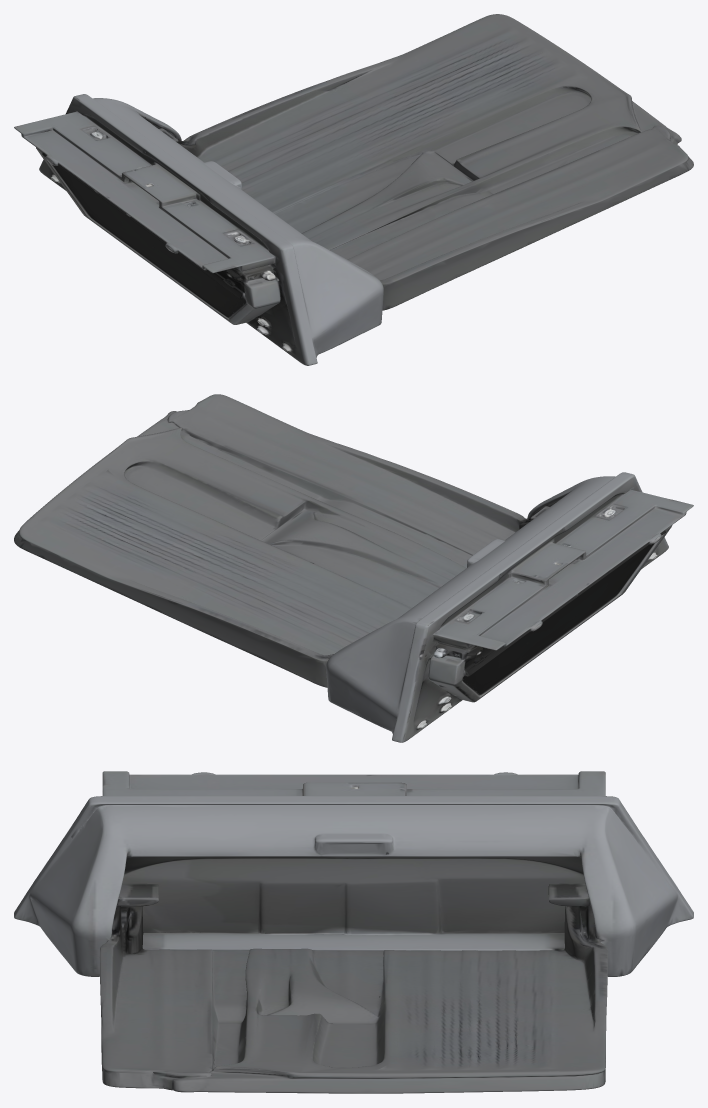
The picture shows the model from 3 angles, top to bottom: view 1: azimuth 30°, elevation 25°; view 2: azimuth 150°, elevation 25°; view 3: azimuth 270°, elevation 25°; orthographic projection. The views are drawn at different scales.
Parts seen in each view (by area): view 1: node_0.005; view 2: node_0.005; view 3: node_0.005.
Boxes of the visible parts, x1,y1,x2,y2 form: node_0.005: (14, 14, 693, 365); node_0.005: (14, 394, 693, 742); node_0.005: (14, 771, 693, 1093).
Bounding box in the file's own units: 0.6608 × 0.1241 × 0.6125.
1 material, 1 textured.
